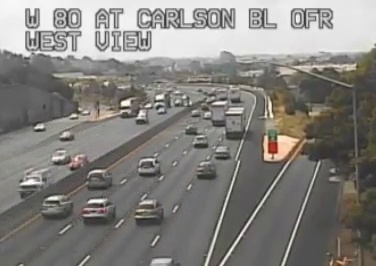car: (81, 198, 116, 221), (41, 194, 72, 217), (135, 200, 162, 220), (86, 169, 111, 189), (137, 158, 159, 175), (197, 162, 215, 178), (213, 146, 229, 159), (192, 135, 207, 147)
truck: (224, 106, 246, 138), (210, 101, 229, 125)
